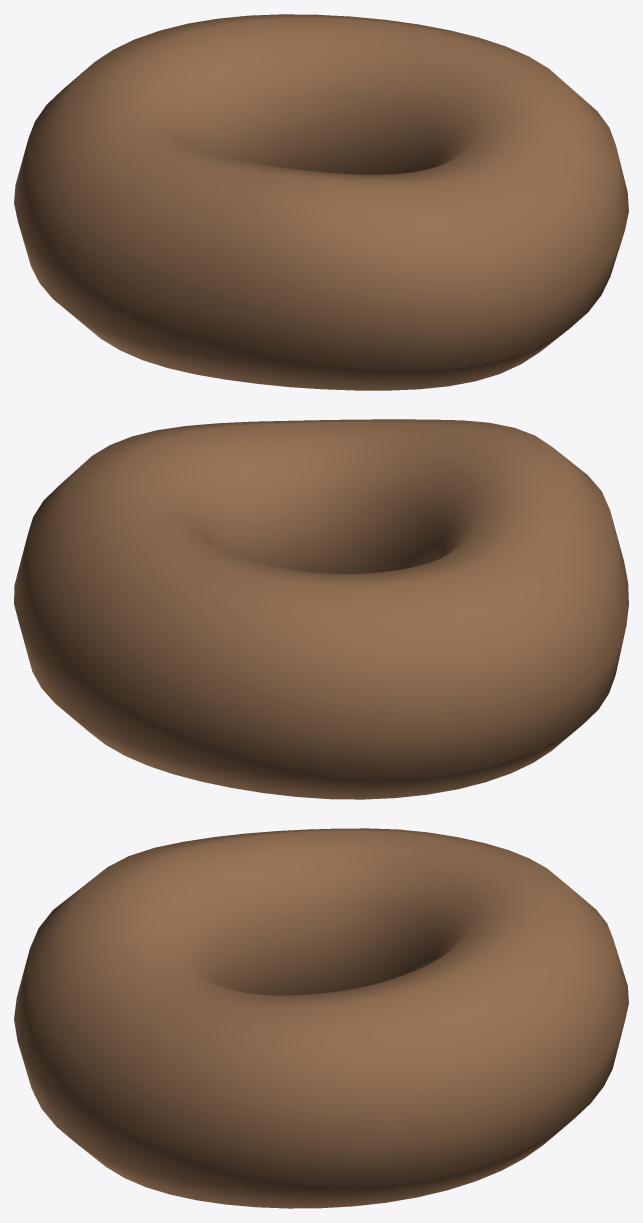
File: bagel.fbx
The picture shows the model from 3 angles, top to bottom: view 1: azimuth 30°, elevation 25°; view 2: azimuth 150°, elevation 25°; view 3: azimuth 270°, elevation 25°; orthographic projection. The views are drawn at different scales.
Visible parts, largest first — view 1: bagel; view 2: bagel; view 3: bagel.
Boxes of the visible parts, left/top/right/bottom form: bagel: left=14, top=14, right=628, bottom=390; bagel: left=14, top=419, right=628, bottom=799; bagel: left=14, top=828, right=628, bottom=1208.
Bounding box in the file's own units: 307 × 119 × 309.
